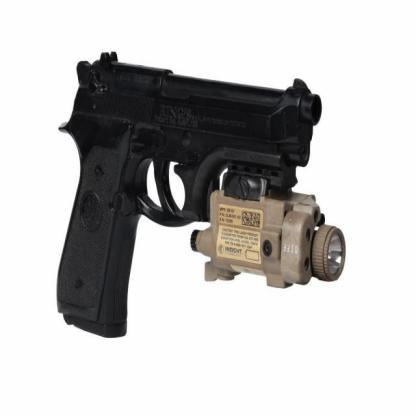weapon: (54, 49, 347, 338)
